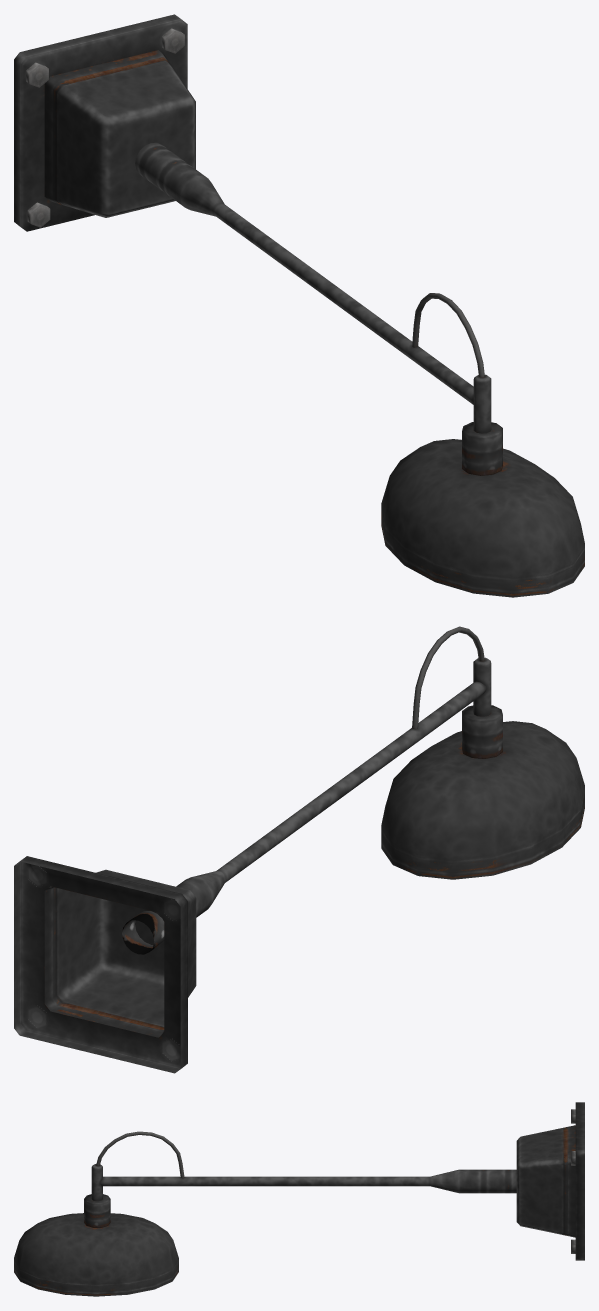
Rendered from LampWall_Small2.fbx.
The picture shows the model from 3 angles, top to bottom: view 1: azimuth 30°, elevation 25°; view 2: azimuth 150°, elevation 25°; view 3: azimuth 270°, elevation 25°; orthographic projection. The views are drawn at different scales.
Visible parts, largest first — view 1: LampWall_Small2_LOD0; view 2: LampWall_Small2_LOD0; view 3: LampWall_Small2_LOD0.
Boxes of the visible parts, x1=… form: LampWall_Small2_LOD0: x1=14, y1=14, x2=584, y2=597; LampWall_Small2_LOD0: x1=14, y1=626, x2=584, y2=1073; LampWall_Small2_LOD0: x1=14, y1=1102, x2=584, y2=1296.
Size of what is drawn, in the model's own units: 48.46 by 64.29 by 227.
